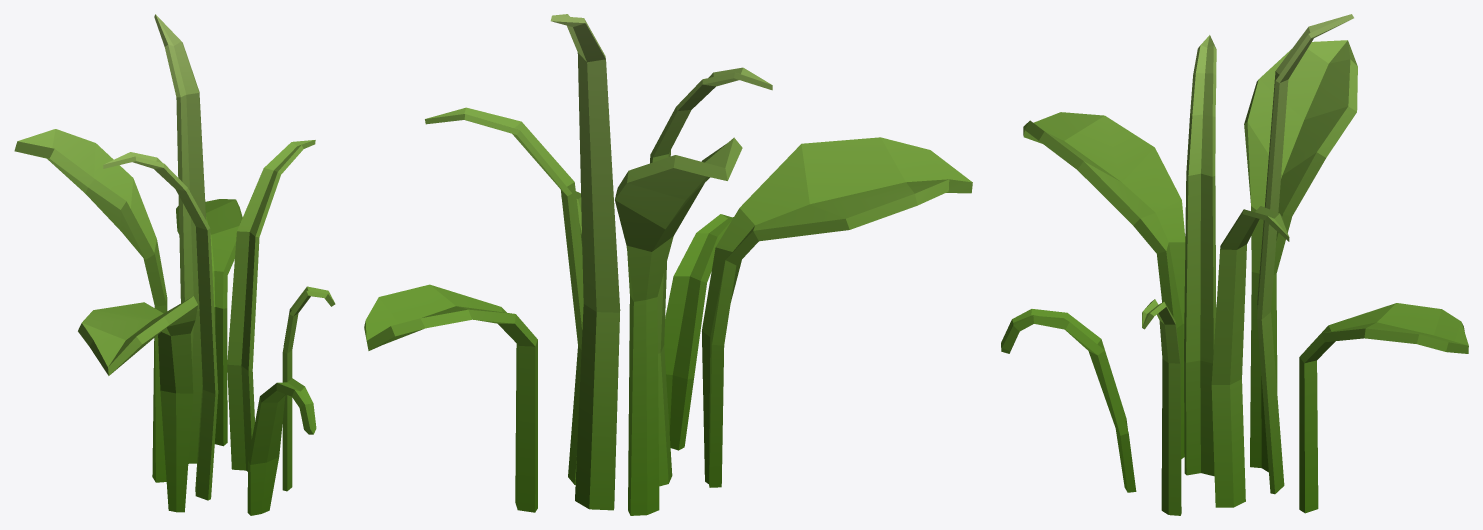
Rendered from plants green.fbx.
The picture shows the model from 3 angles, left to right: view 1: azimuth 30°, elevation 25°; view 2: azimuth 150°, elevation 25°; view 3: azimuth 270°, elevation 25°; orthographic projection. The views are drawn at different scales.
Visible parts, largest first — view 1: plants green; view 2: plants green; view 3: plants green.
Part boxes in pixels (bbox=[...]): plants green: bbox=[14, 14, 335, 515]; plants green: bbox=[364, 14, 972, 515]; plants green: bbox=[1001, 14, 1468, 515].
Size of the model in its own units: 183 by 227 by 204.
